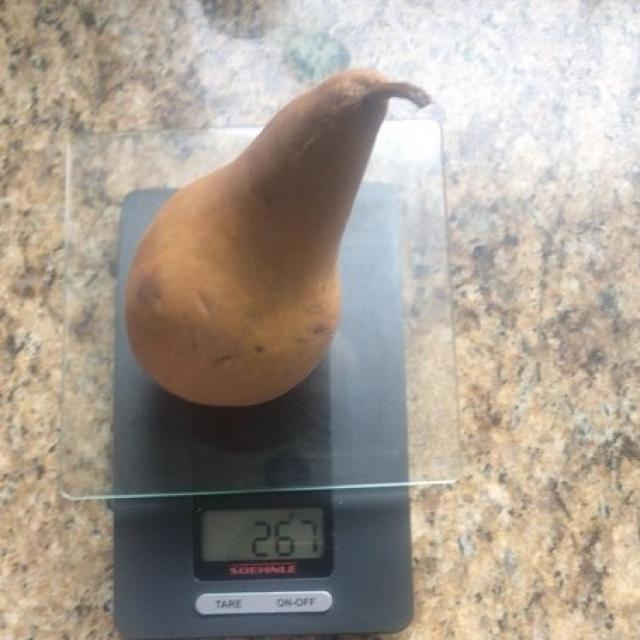pear: (129, 67, 424, 404)
